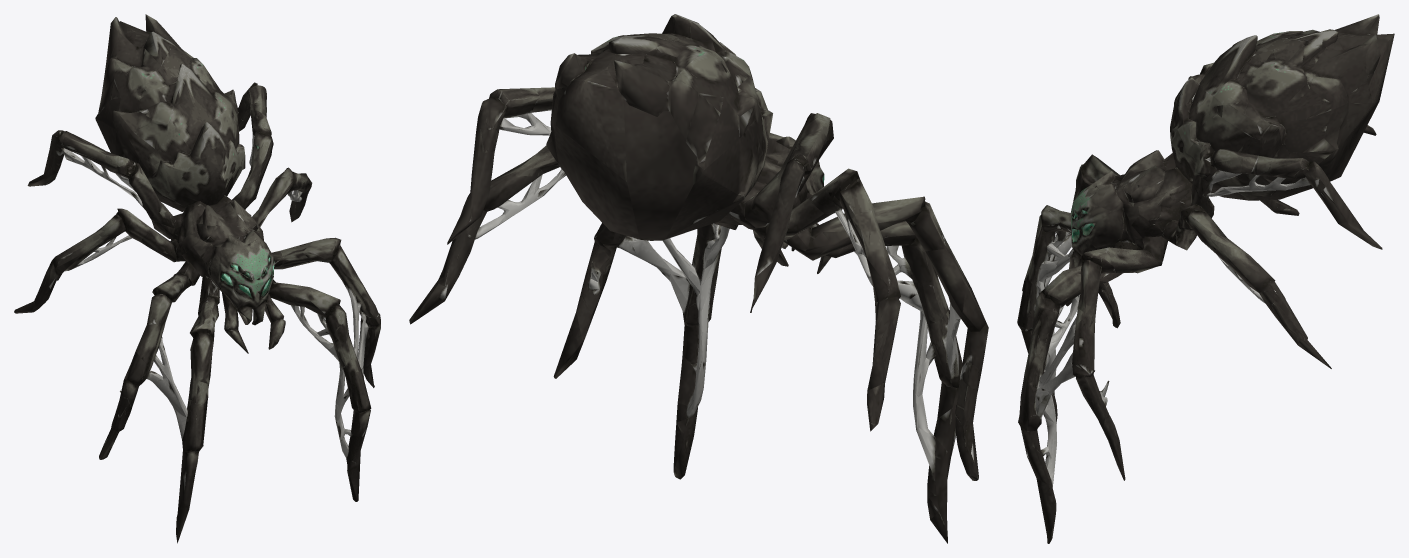
File: silk_stalker.glb
3 renders of one model, left to right at view 1: azimuth 30°, elevation 25°; view 2: azimuth 150°, elevation 25°; view 3: azimuth 270°, elevation 25°, orthographic. The views are drawn at different scales.
Visible parts, largest first — view 1: Mesh_0; view 2: Mesh_0; view 3: Mesh_0.
Boxes of the visible parts, x1,y1,x2,y2 form: Mesh_0: (14, 14, 380, 543); Mesh_0: (409, 14, 988, 543); Mesh_0: (1017, 14, 1394, 543).
Bounding box in the file's own units: 1.45 × 1.9 × 1.37.
1 material, 1 textured.
